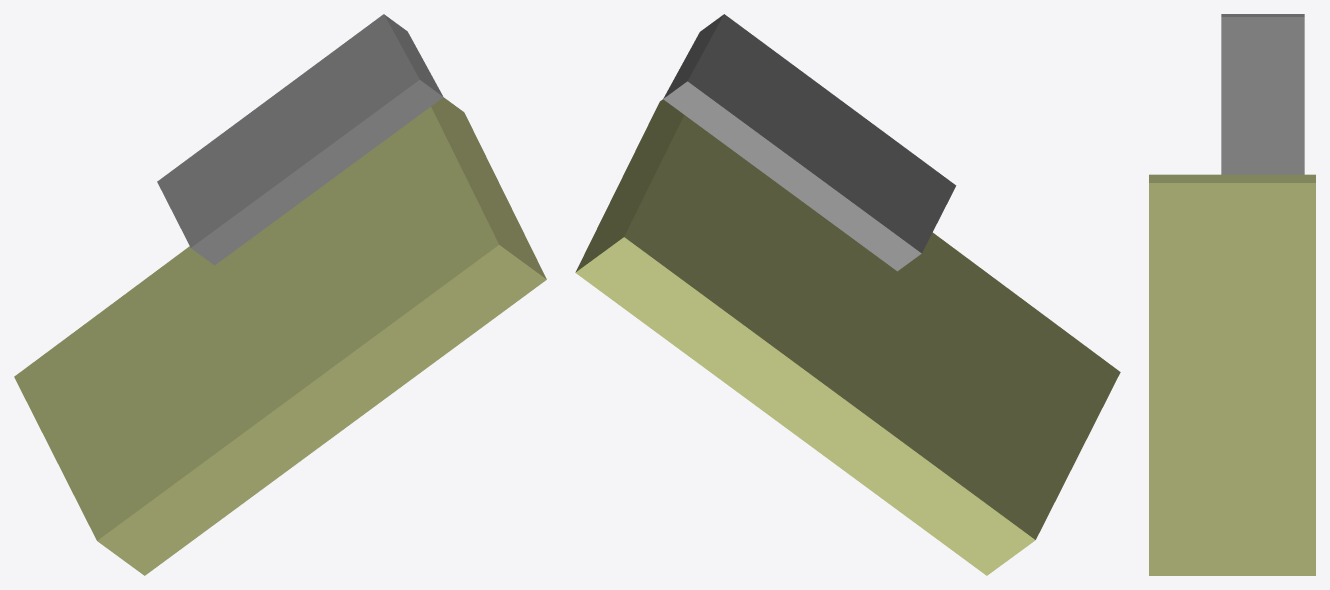
3 renders of one model, left to right at view 1: azimuth 30°, elevation 25°; view 2: azimuth 150°, elevation 25°; view 3: azimuth 270°, elevation 25°, orthographic. The views are drawn at different scales.
Parts seen in each view (by area): view 1: 0_1_0_2_0_1_2_3_2; view 2: 0_1_0_2_0_1_2_3_2; view 3: 0_1_0_2_0_1_2_3_2.
Part boxes in pixels (x1,y1,x2,y2): 0_1_0_2_0_1_2_3_2: (14,14,546,575); 0_1_0_2_0_1_2_3_2: (575,14,1120,575); 0_1_0_2_0_1_2_3_2: (1149,14,1315,575).
Size of the model in its own units: 35.21 by 31.91 by 6.
